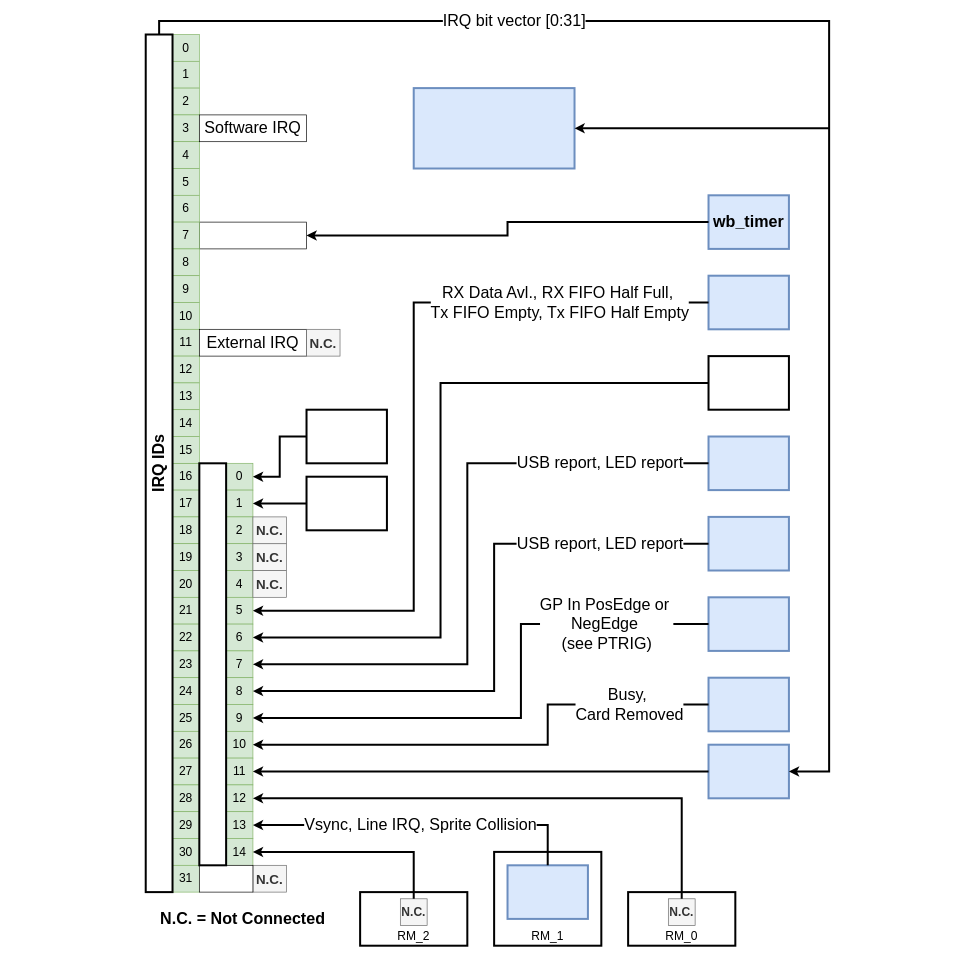
The diagram is 961 pixels wide and 958 high, and some of its shapes have lost their labels. The shapes that lost their labels are listed below. From the top down, each one's box as (x1, y1, x2, y2) in pixels, then its label:
(412, 87, 575, 169): Ibex RISC-V
(199, 221, 307, 249): Timer IRQ
(707, 274, 790, 330): wbuart
(707, 355, 790, 410): I2C
(305, 408, 388, 464): ICAP
(707, 435, 790, 491): USB HID 0
(305, 475, 388, 531): DFX
(707, 516, 790, 571): USB HID 1
(707, 596, 790, 652): gpio
(198, 462, 227, 866): Fast IRQs
(707, 676, 790, 732): sdspi
(707, 743, 790, 799): Picorv DMA
(199, 865, 253, 892): NMI
(506, 864, 589, 920): vera
